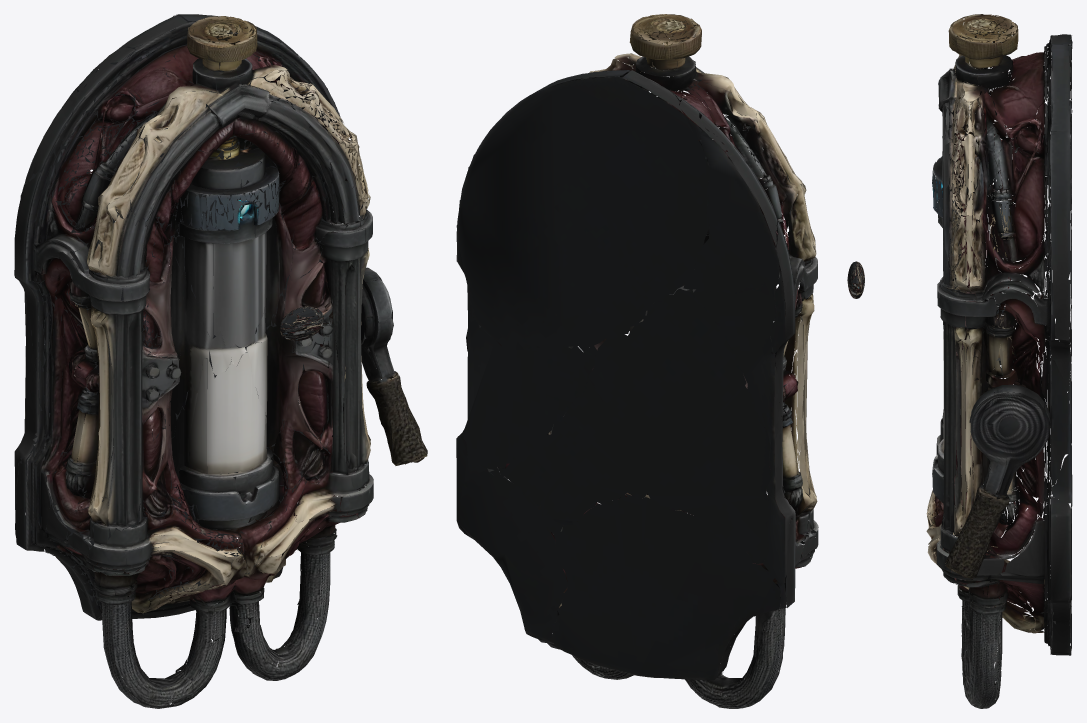
The model's file is hazard_controller_phase_slug.glb.
3 renders of one model, left to right at view 1: azimuth 30°, elevation 25°; view 2: azimuth 150°, elevation 25°; view 3: azimuth 270°, elevation 25°, orthographic. The views are drawn at different scales.
Visible parts, largest first — view 1: node_0, HB_PULSE_00; view 2: node_0; view 3: node_0, HB_PULSE_00.
Boxes of the visible parts, box(x1,y1,x2,y2) form: node_0: box(14, 14, 427, 708); HB_PULSE_00: box(279, 306, 323, 341); node_0: box(456, 14, 818, 708); node_0: box(926, 14, 1072, 708); HB_PULSE_00: box(847, 261, 864, 298).
Size of the model in its own units: 0.6552 by 1.17 by 0.3643.
Materials: 1 (1 with a texture image).
